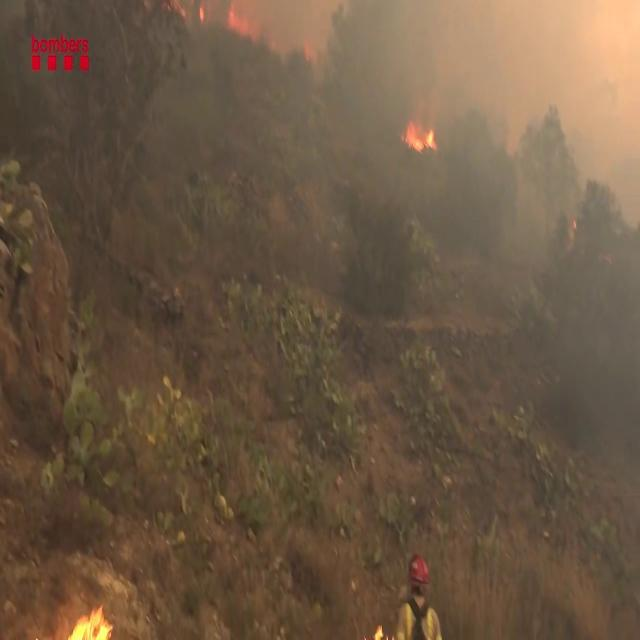Fire: (58, 594, 116, 640), (401, 111, 437, 159)
Smoke: (251, 0, 639, 265)
